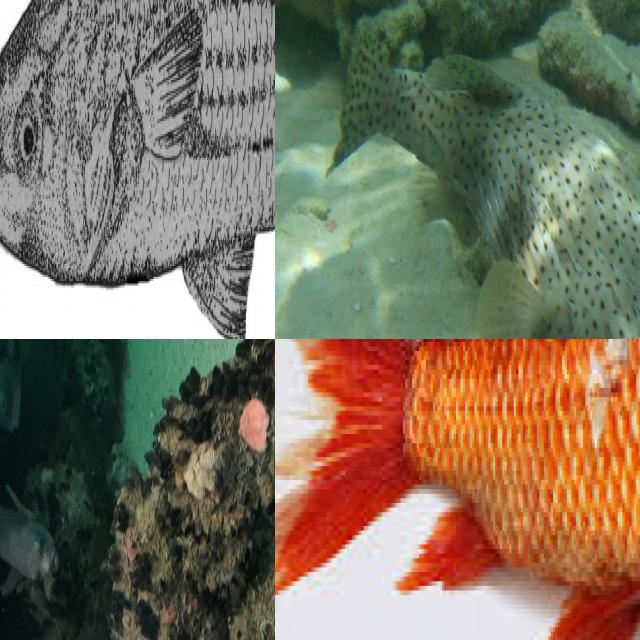fish: (299, 339, 640, 640), (330, 24, 640, 339), (0, 0, 275, 339)
